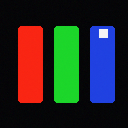1 square: (99, 29, 107, 37)
